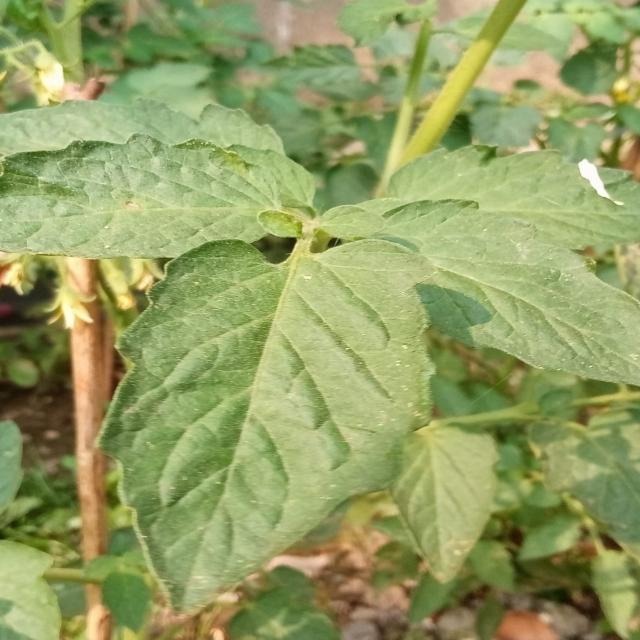Healthy: (44, 169, 513, 617), (354, 181, 640, 400), (0, 134, 284, 258)
Tuta absoluta: (573, 155, 626, 211)
